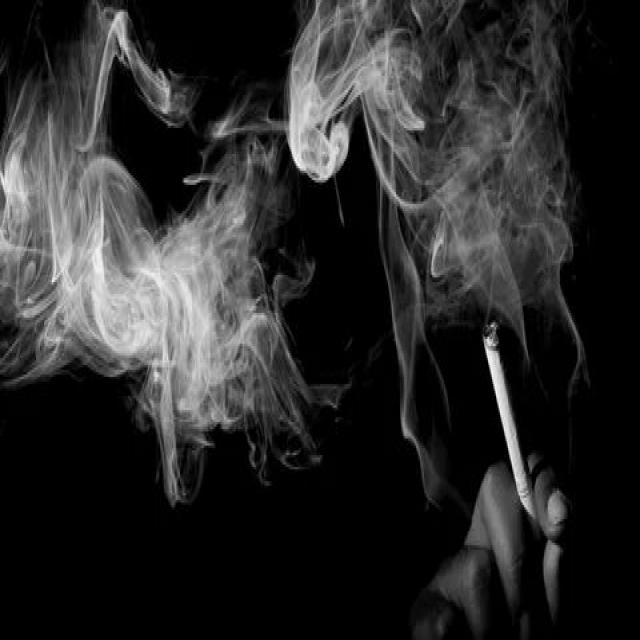smoke: (483, 313, 545, 557)
